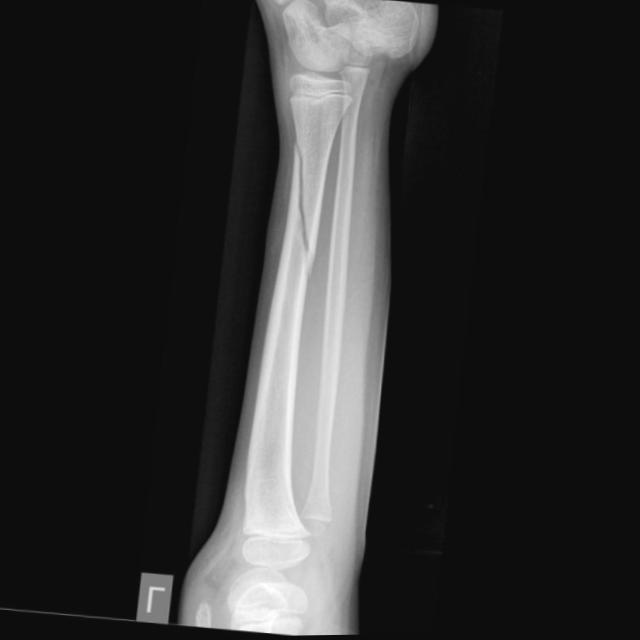Oblique Displaced: (271, 130, 334, 278)
